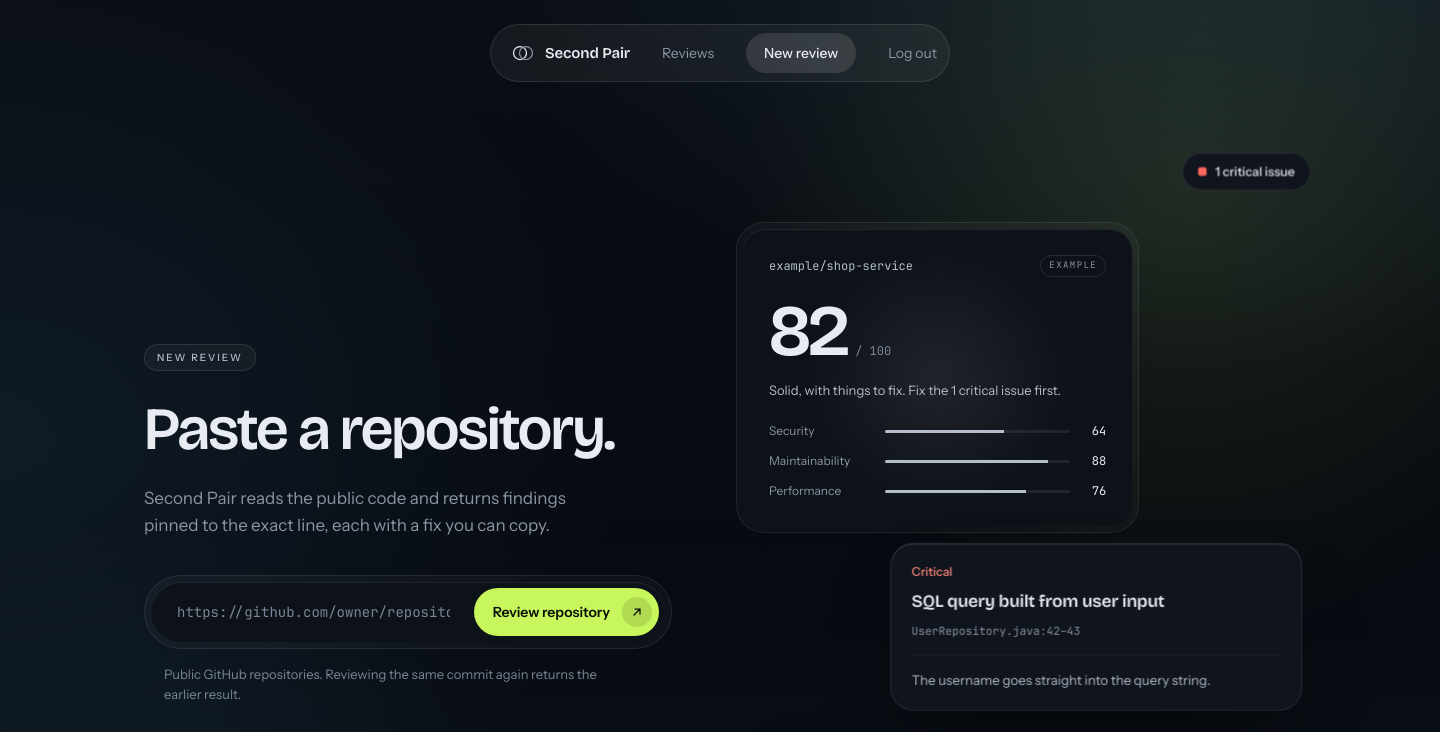
NewReviewPage › submits the repository and opens the new review
In the field named "GitHub repository URL": (311, 612) x1=157 y1=588 x2=466 y2=636, type "https://github.com/octo/orders-service"
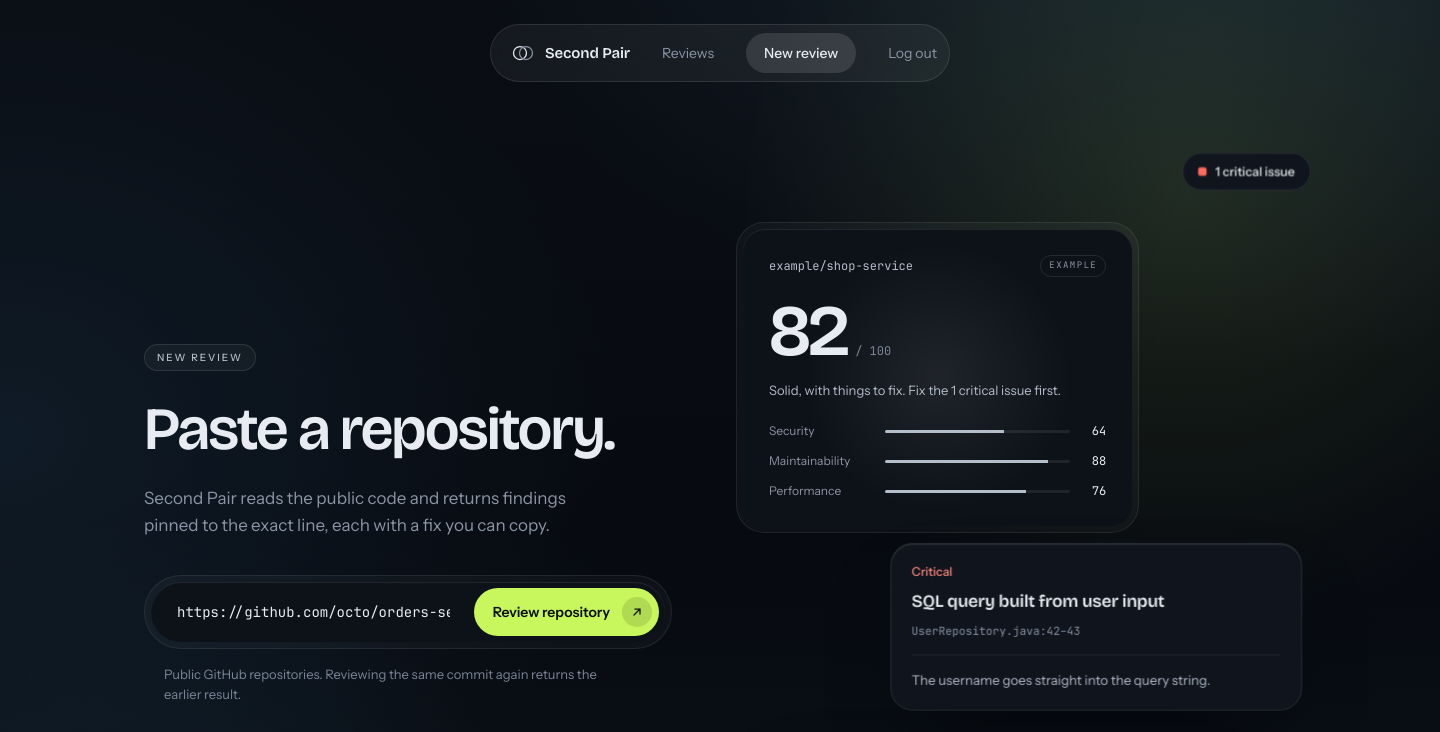
Click the button "Review repository": click(566, 612) x1=474 y1=588 x2=659 y2=636
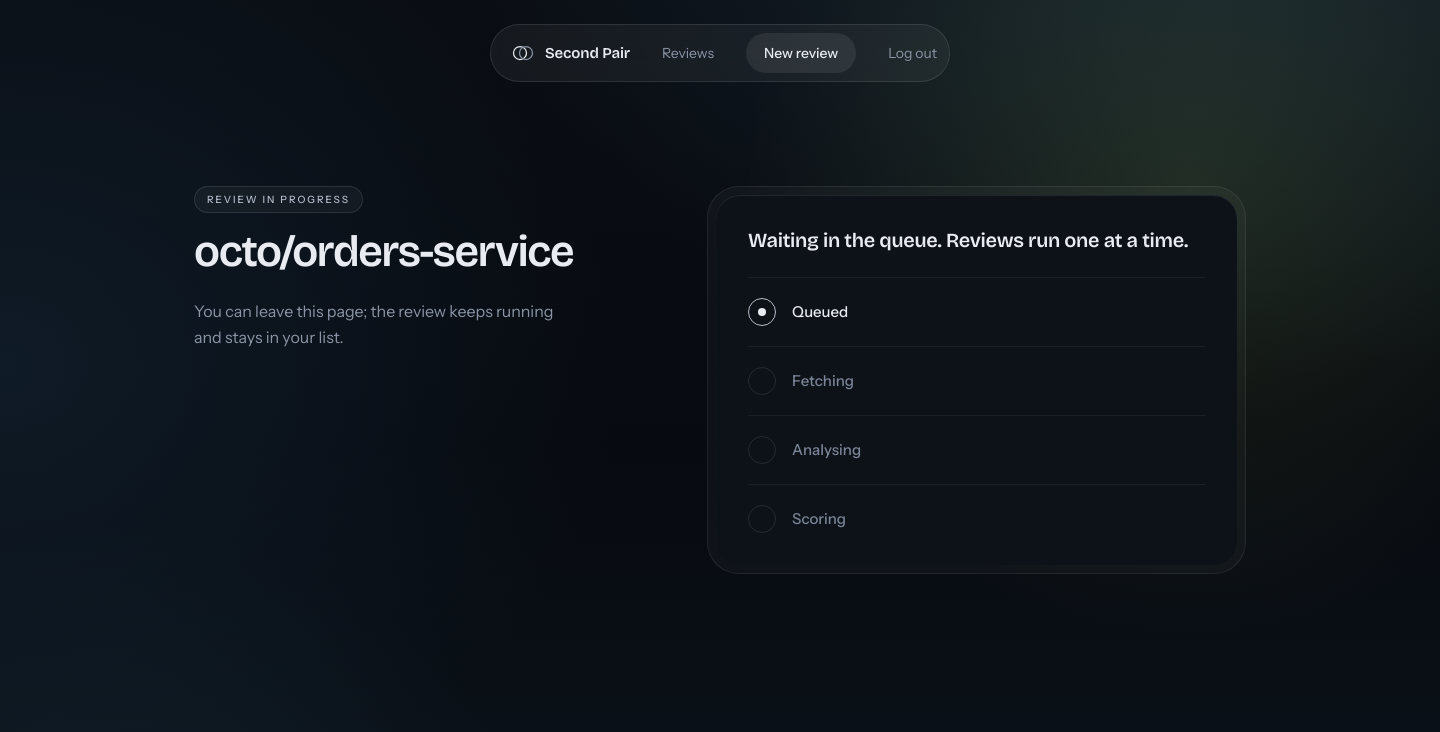
Expected: the text "Waiting in the queue. Reviews run one at a time." is shown, x1=748 y1=227 x2=1205 y2=253
